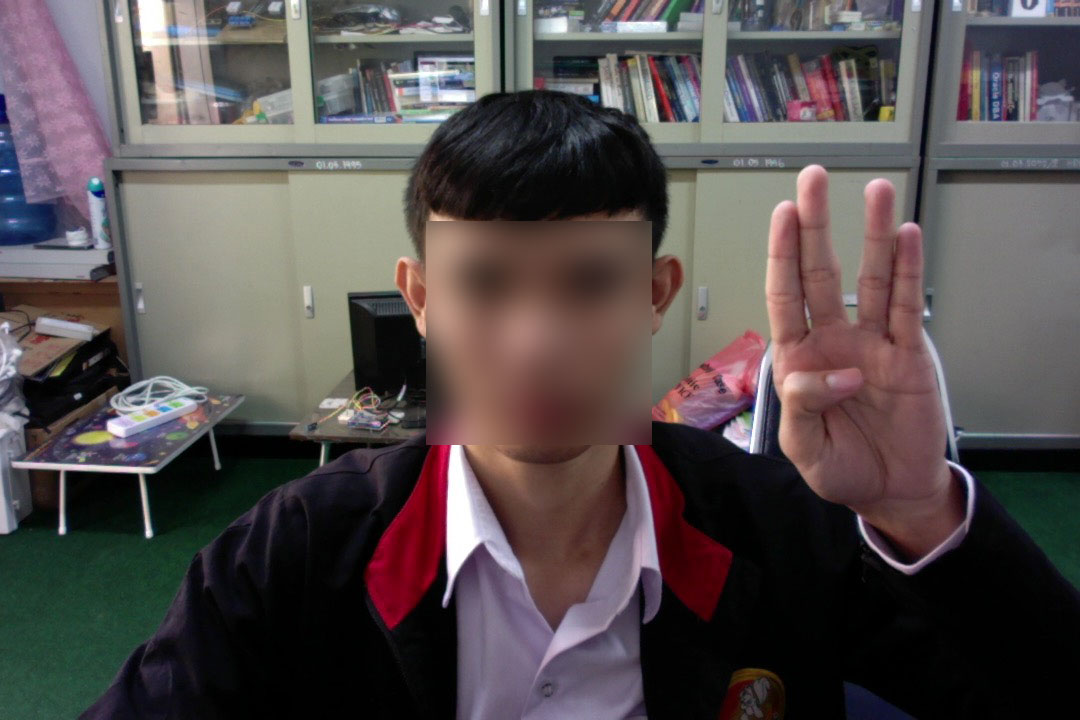bor: (753, 159, 955, 510)
